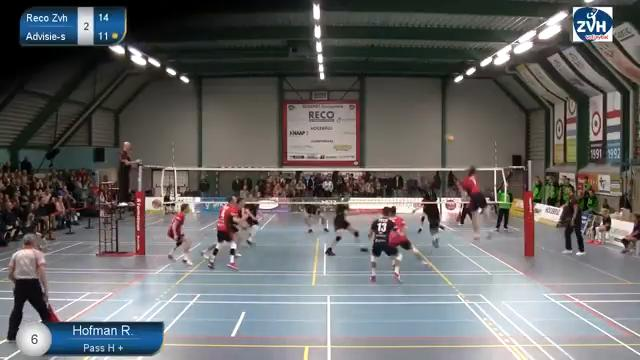Attack: (449, 157, 498, 243)
Player: (369, 207, 401, 282), (389, 206, 427, 264), (208, 204, 237, 269), (325, 204, 359, 255), (418, 185, 443, 247), (167, 204, 192, 265), (234, 198, 252, 245), (244, 195, 258, 245), (304, 204, 328, 233)
ball: (447, 135, 455, 143)
